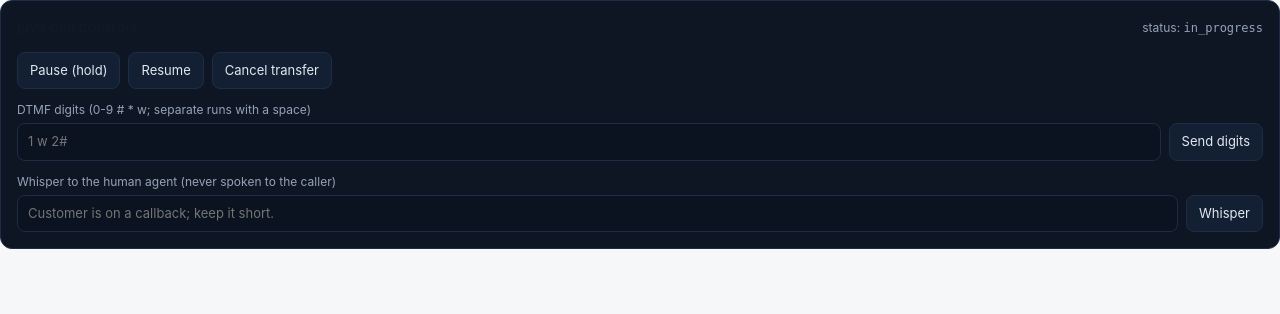
CallControlBar › renders the server error code inline when a control is refused
Click the button with test id "call-control-pause": (69, 70) [17, 52, 120, 89]
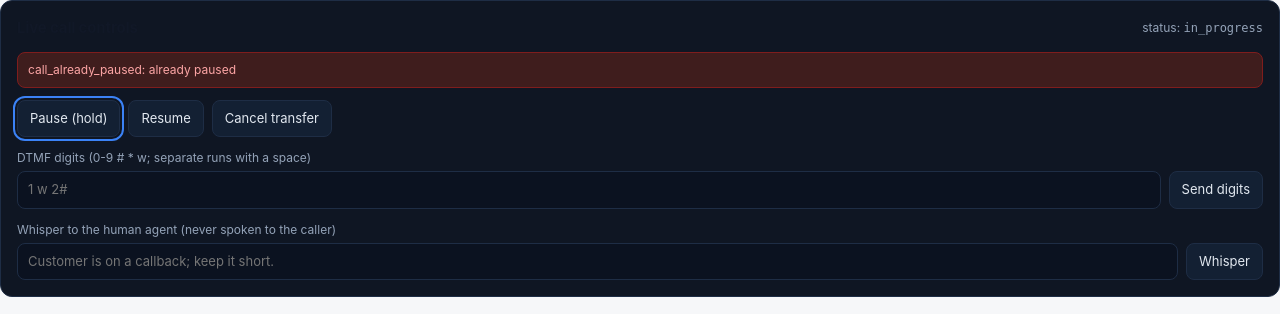
Expected: the message with test id "call-control-notice" shows "call_already_paused", [28, 62, 236, 76]
